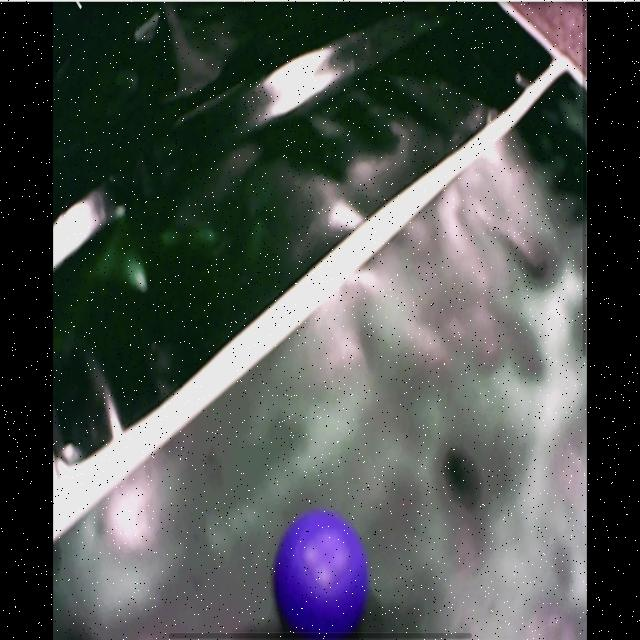ball: (275, 509, 367, 634)
